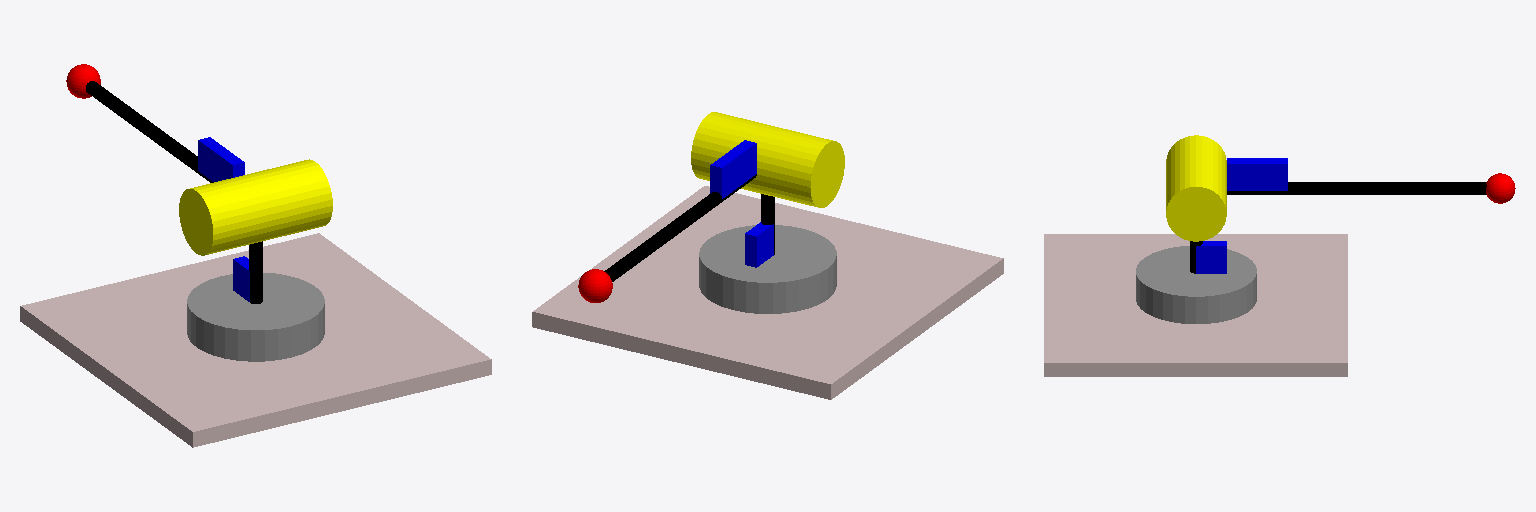
The robot description file, URDF, robot "pantilt":
<?xml version="1.0"?>

<robot name="pantilt">
  
  <!-- *************************************************** -->
  <!-- ******************** Kinematics ******************* -->
  <!-- *************************************************** -->
  <!-- Note the 'origin' tag in the joints defines the
       shift and reorientation before the continuous joint
       rotates around the 'axis'. -->

  <link name="world"/>

  <joint name="pan" type="continuous">
    <parent link="world"/>
    <child  link="link1"/>
    <origin xyz="0 0 0" rpy="0 0 0"/>
    <axis   xyz="0 0 1"/>
  </joint>

  <link name="link1"/>

  <joint name="tilt" type="continuous">
    <parent link="link1"/>
    <child  link="link2"/>
    <origin xyz="0 0 0" rpy="0 0 0"/>
    <axis   xyz="1 0 0"/>
  </joint>

  <link name="link2"/>

  <joint name="shifttotip" type="fixed">
    <parent link="link2"/>
    <child  link="tip"/>
    <origin xyz="0 1.0 0" rpy="0 0 0"/>
  </joint>

  <link name="tip"/>


  <!-- *************************************************** -->
  <!-- ********************* Graphics ******************** -->
  <!-- *************************************************** -->
  <!-- The following is purely to make this look roboticy. -->
  <!-- The 'origin' tag in the link/visual defines the
       center of the object (box, cylinder, sphere, mesh)
       but does not affect the joint chain kinematics. -->

  <!-- *************** Materials / Colors **************** -->

  <material name="white">    <color rgba="1.00 1.00 1.00 1"/>  </material>
  <material name="gray">     <color rgba="0.60 0.60 0.60 1"/>  </material>
  <material name="table">    <color rgba="0.85 0.77 0.77 1"/>  </material>
  <material name="black">    <color rgba="0.00 0.00 0.00 1"/>  </material>

  <material name="red">      <color rgba="1.00 0.00 0.00 1"/>  </material>
  <material name="green">    <color rgba="0.00 1.00 0.00 1"/>  </material>
  <material name="blue">     <color rgba="0.00 0.00 1.00 1"/>  </material>

  <material name="cyan">     <color rgba="0.00 1.00 1.00 1"/>  </material>
  <material name="magenta">  <color rgba="1.00 0.00 1.00 1"/>  </material>
  <material name="yellow">   <color rgba="1.00 1.00 0.00 1"/>  </material>

  <material name="orange">   <color rgba="1.00 0.65 0.00 1"/>  </material>


  <!-- *** Table - attached to world *** -->

  <joint name="attach-table" type="fixed">
    <parent link="world"/>
    <child  link="table"/>
  </joint>

  <link name="table">
    <visual>
      <origin xyz="0 0 -0.425" rpy="0 0 0"/>
      <geometry>
	<box size="1.0 1.0 0.05"/>
      </geometry>
      <material name="table"/>
    </visual>
  </link>

  <!-- *** Pan Motor - attached to world *** -->

  <joint name="attach-panmotor" type="fixed">
    <parent link="world"/>
    <child  link="panmotor"/>
  </joint>

  <link name="panmotor">
    <visual>
      <origin xyz="0 0 -0.35" rpy="0 0 0"/>
      <geometry>
	<cylinder length="0.1" radius="0.2"/>
      </geometry>
      <material name="gray"/>
    </visual>
  </link>

  <!-- *** Link 1 Bar - attached to link1 (pan joint output) *** -->

  <joint name="attach-link1bar" type="fixed">
    <parent link="link1"/>
    <child  link="link1bar"/>
  </joint>

  <link name="link1bar">
    <visual>
      <origin xyz="0 0 -0.2" rpy="0 0 0"/>
      <geometry>
	<cylinder length="0.2" radius="0.02"/>
      </geometry>
      <material name="black"/>
    </visual>
  </link>

  <!-- *** Link 1 Sail - attached to link1 (pan joint output) *** -->

  <joint name="attach-link1sail" type="fixed">
    <parent link="link1"/>
    <child  link="link1sail"/>
  </joint>

  <link name="link1sail">
    <visual>
      <origin xyz="0 0.05 -0.25" rpy="0 0 0"/>
      <geometry>
      	<box size="0.04 0.1 0.1"/>
      </geometry>
      <material name="blue"/>
    </visual>
  </link>

  <!-- *** Tilt Motor - attached to link1 (pan joint output) *** -->

  <joint name="attach-tiltmotor" type="fixed">
    <parent link="link1"/>
    <child  link="tiltmotor"/>
  </joint>

  <link name="tiltmotor">
    <visual>
      <origin xyz="0 0 0" rpy="0 1.5708 0"/>
      <geometry>
	<cylinder length="0.4" radius="0.1"/>
      </geometry>
      <material name="yellow"/>
    </visual>
  </link>

  <!-- *** Link 2 Bar - attached to link2 (tilt joint output) *** -->

  <joint name="attach-link2bar" type="fixed">
    <parent link="link2"/>
    <child  link="link2bar"/>
  </joint>

  <link name="link2bar">
    <visual>
      <origin xyz="0 0.55 0" rpy="-1.5708 0 0"/>
      <geometry>
	<cylinder length="0.9" radius="0.02"/>
      </geometry>
      <material name="black"/>
    </visual>
  </link>

  <!-- *** Link 2 Sail - attached to link2 (tilt joint output) *** -->

  <joint name="attach-link2sail" type="fixed">
    <parent link="link2"/>
    <child  link="link2sail"/>
  </joint>

  <link name="link2sail">
    <visual>
      <origin xyz="0 0.2 0.05" rpy="0 0 0"/>
      <geometry>
      	<box size="0.04 0.2 0.1"/>
      </geometry>
      <material name="blue"/>
    </visual>
  </link>

  <!-- *** Tip Ball - attached to tip *** -->

  <joint name="attach-tipball" type="fixed">
    <parent link="tip"/>
    <child  link="tipball"/>
  </joint>

  <link name="tipball">
    <visual>
      <origin xyz="0 0 0" rpy="0 0 0"/>
      <geometry>
      	<sphere radius="0.05"/>
      </geometry>
      <material name="red"/>
    </visual>
  </link>

</robot>

--- Facts derived from the render (not from the file) ---
3 views of the same robot in one strip: view 1: azimuth 30°, elevation 25°; view 2: azimuth 150°, elevation 25°; view 3: azimuth 270°, elevation 25° (orthographic).
Model pantilt with 12 links and 11 joints (2 continuous, 9 fixed), rooted at world, posed all joints at 0.
Visible links, largest first — view 1: table, tiltmotor, panmotor, link2bar, link2sail, link1bar, tipball, link1sail; view 2: table, panmotor, tiltmotor, link2bar, link2sail, link1sail, tipball; view 3: table, panmotor, tiltmotor, link2bar, link2sail, link1sail, tipball.
Link boxes in pixels (bbox=[...]): table: bbox=[20, 233, 491, 447]; tiltmotor: bbox=[179, 159, 332, 255]; panmotor: bbox=[187, 273, 324, 361]; link2bar: bbox=[86, 81, 213, 182]; link2sail: bbox=[198, 137, 244, 181]; link1bar: bbox=[249, 241, 262, 303]; tipball: bbox=[66, 64, 100, 98]; link1sail: bbox=[233, 256, 249, 301]; table: bbox=[532, 186, 1003, 399]; panmotor: bbox=[699, 225, 836, 313]; tiltmotor: bbox=[691, 112, 844, 207]; link2bar: bbox=[604, 174, 756, 281]; link2sail: bbox=[710, 140, 756, 198]; link1sail: bbox=[745, 222, 773, 267]; tipball: bbox=[578, 269, 612, 302]; table: bbox=[1044, 234, 1347, 376]; panmotor: bbox=[1136, 246, 1256, 323]; tiltmotor: bbox=[1166, 135, 1226, 241]; link2bar: bbox=[1227, 182, 1486, 194]; link2sail: bbox=[1227, 158, 1287, 190]; link1sail: bbox=[1196, 241, 1226, 273]; tipball: bbox=[1486, 173, 1515, 203].
Size in the robot's own frame: 1 by 1.55 by 0.55 metres.
Geometry: primitives only (box / cylinder / sphere), no mesh files.